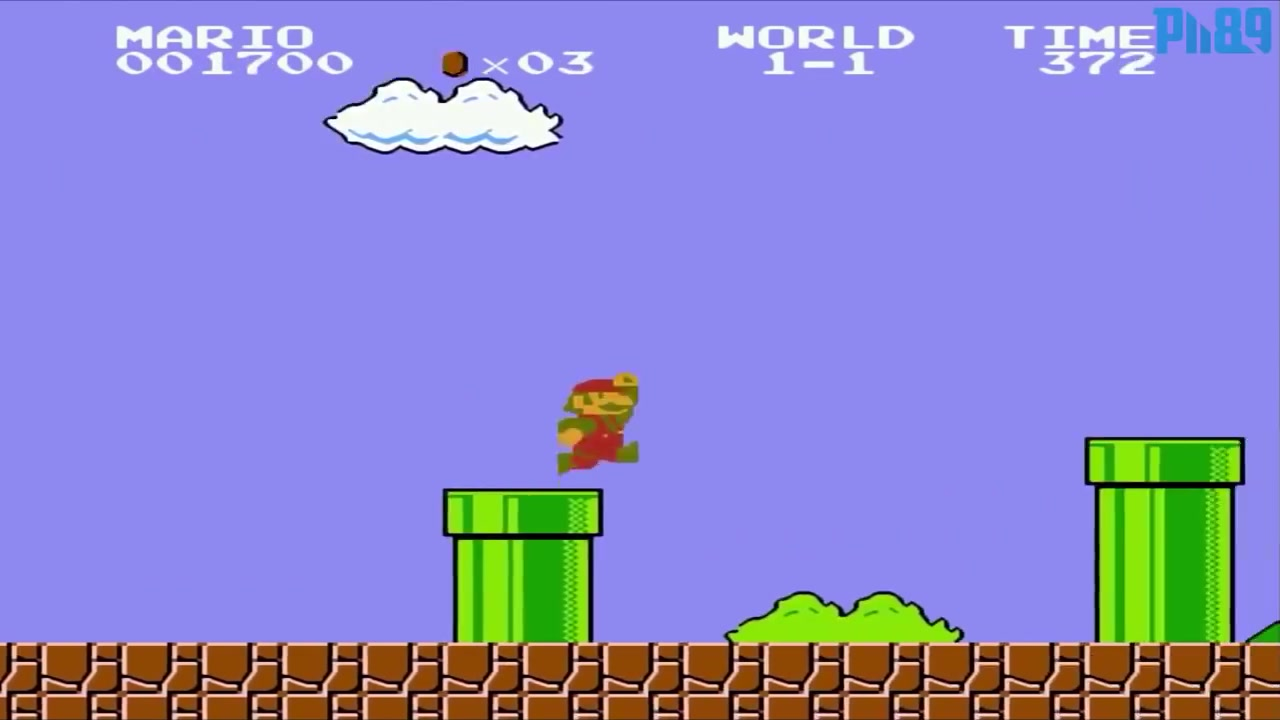mario: (544, 367, 650, 484)
